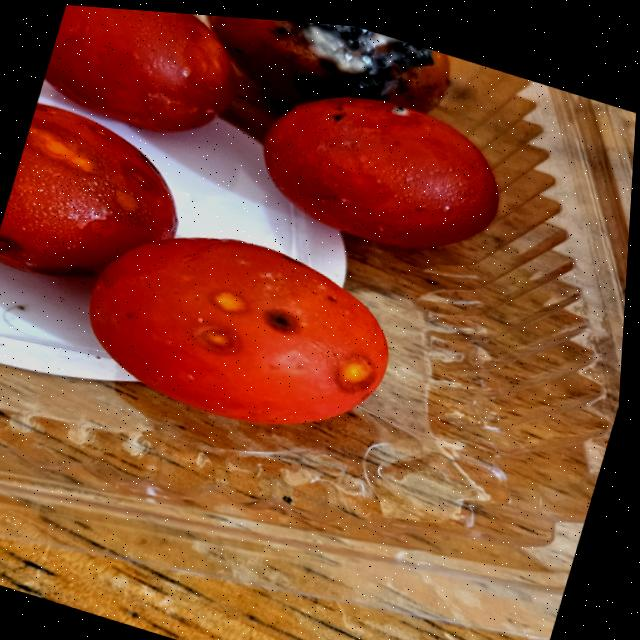rot_lvl1: (24, 116, 105, 182), (326, 350, 378, 396), (103, 186, 158, 224), (188, 321, 247, 356), (204, 284, 253, 319), (122, 157, 163, 194), (144, 94, 206, 118)
rot_lvl2: (256, 20, 448, 103), (260, 307, 306, 339), (0, 232, 29, 254), (383, 105, 413, 121), (328, 101, 347, 121)
